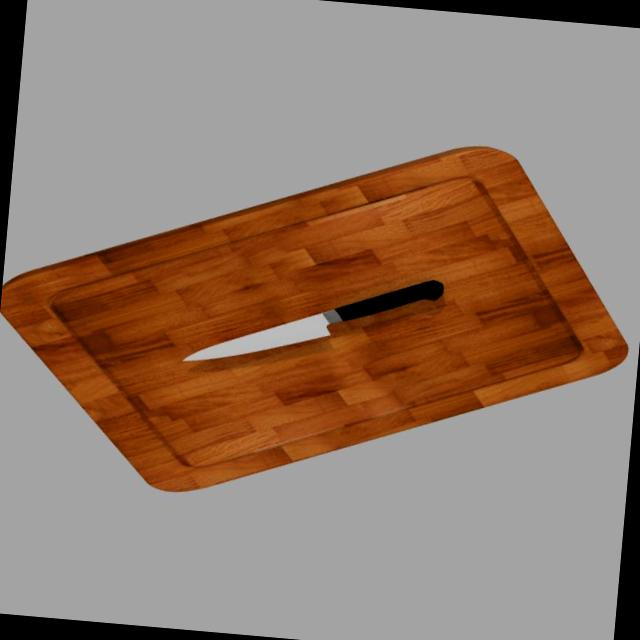knife: (332, 271, 444, 328)
